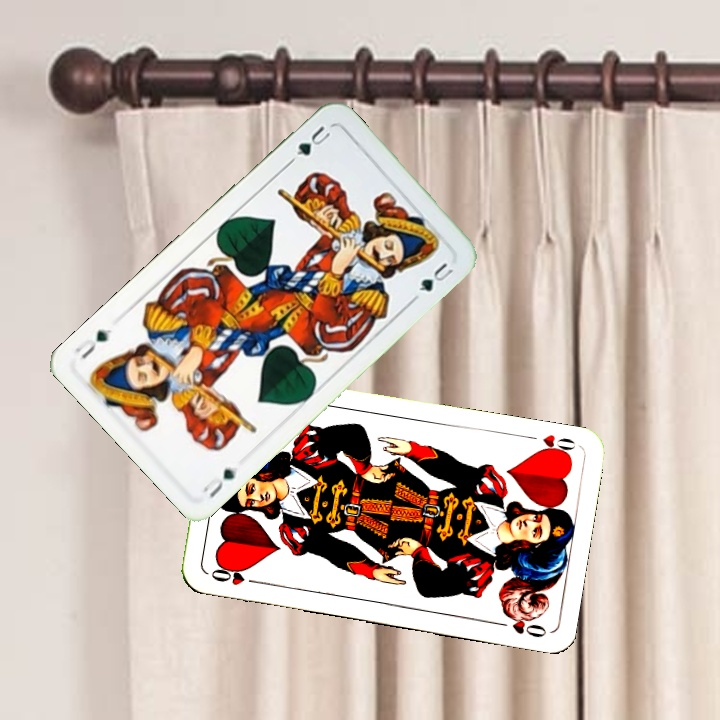GU: (199, 462, 241, 501), (292, 121, 333, 159)
HO: (521, 430, 577, 459), (207, 563, 264, 588)
